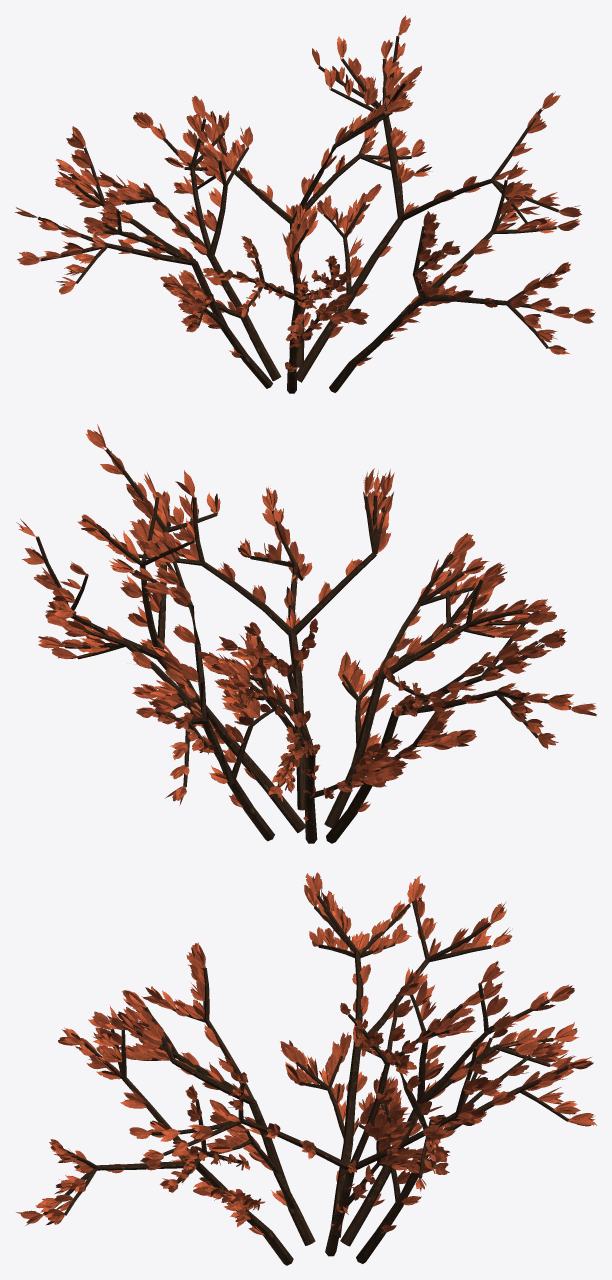
The model's file is sumac_scrub_v02.fbx.
3 views of the same model, one above another, from view 1: azimuth 30°, elevation 25°; view 2: azimuth 150°, elevation 25°; view 3: azimuth 270°, elevation 25° (orthographic). The views are drawn at different scales.
Visible parts, largest first — view 1: sumac_scrub_v02; view 2: sumac_scrub_v02; view 3: sumac_scrub_v02.
Boxes of the visible parts, bbox=[...] form: sumac_scrub_v02: bbox=[14, 15, 595, 393]; sumac_scrub_v02: bbox=[16, 424, 596, 843]; sumac_scrub_v02: bbox=[16, 872, 596, 1265].
Bounding box in the file's own units: 396 × 226 × 367.
2 materials, 2 textured.
